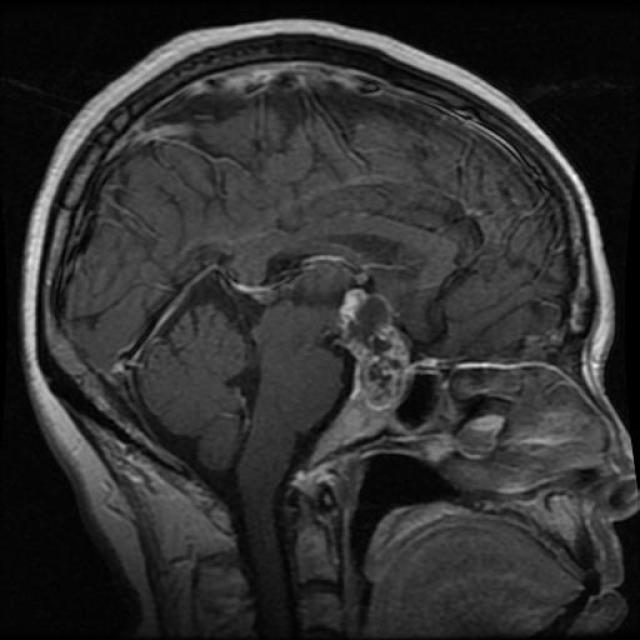pituitary: (330, 286, 422, 421)
